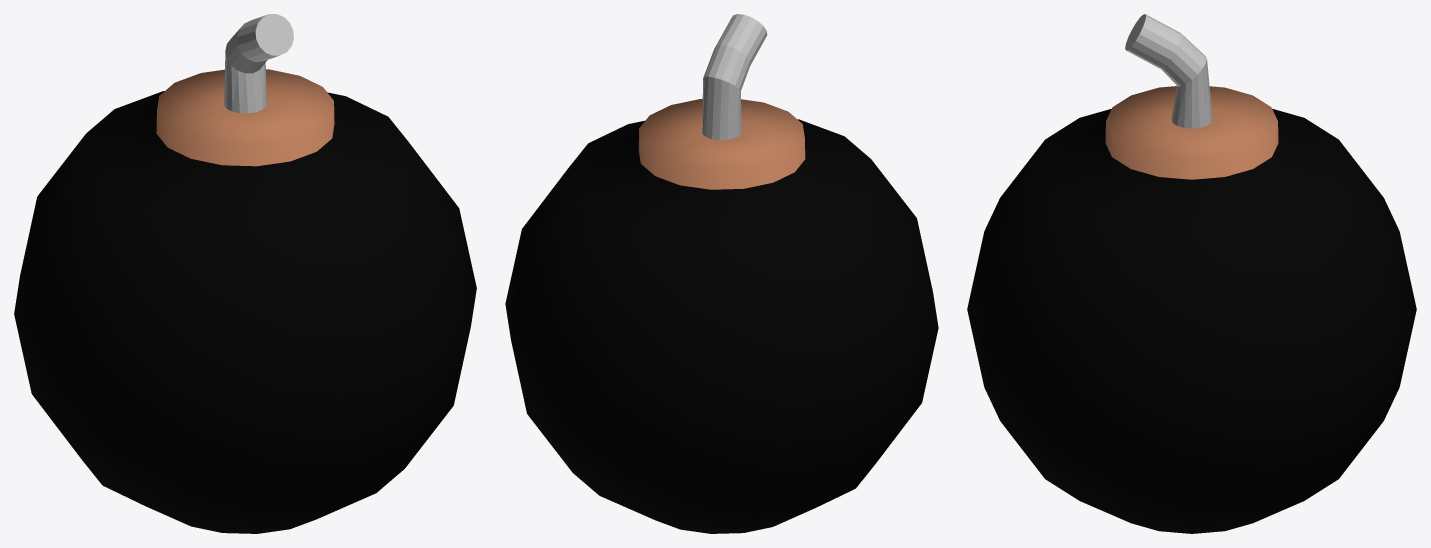
File: bom.fbx
The picture shows the model from 3 angles, left to right: view 1: azimuth 30°, elevation 25°; view 2: azimuth 150°, elevation 25°; view 3: azimuth 270°, elevation 25°; orthographic projection. The views are drawn at different scales.
Parts seen in each view (by area): view 1: Sphere001; view 2: Sphere001; view 3: Sphere001.
Part boxes in pixels (x1=…): Sphere001: x1=14, y1=14, x2=476, y2=533; Sphere001: x1=505, y1=14, x2=938, y2=533; Sphere001: x1=967, y1=14, x2=1416, y2=533.
Bounding box in the file's own units: 17.84 × 17.84 × 21.76.
Materials: 3 (3 with a texture image).
